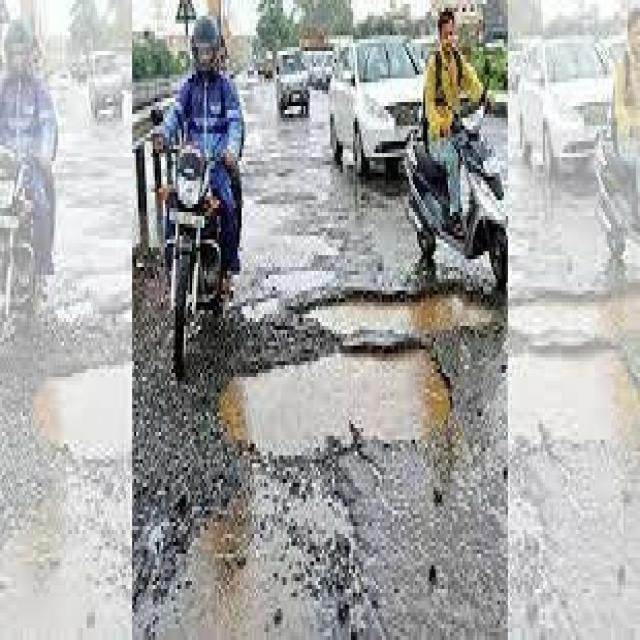Pothole: (221, 271, 522, 534)
